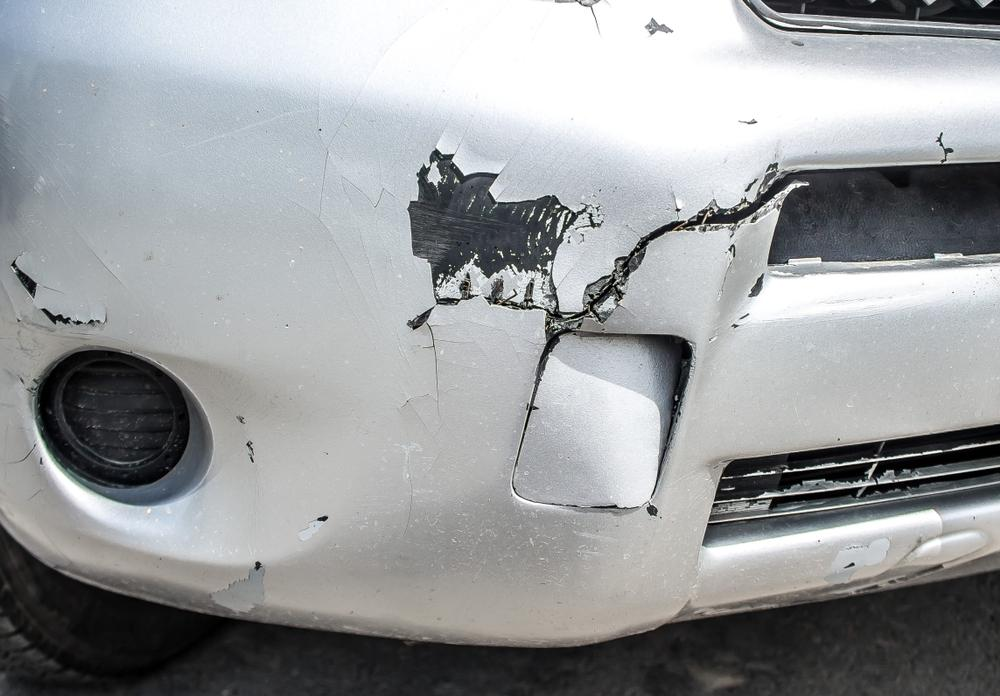crack: (405, 178, 796, 347), (5, 253, 103, 328)
